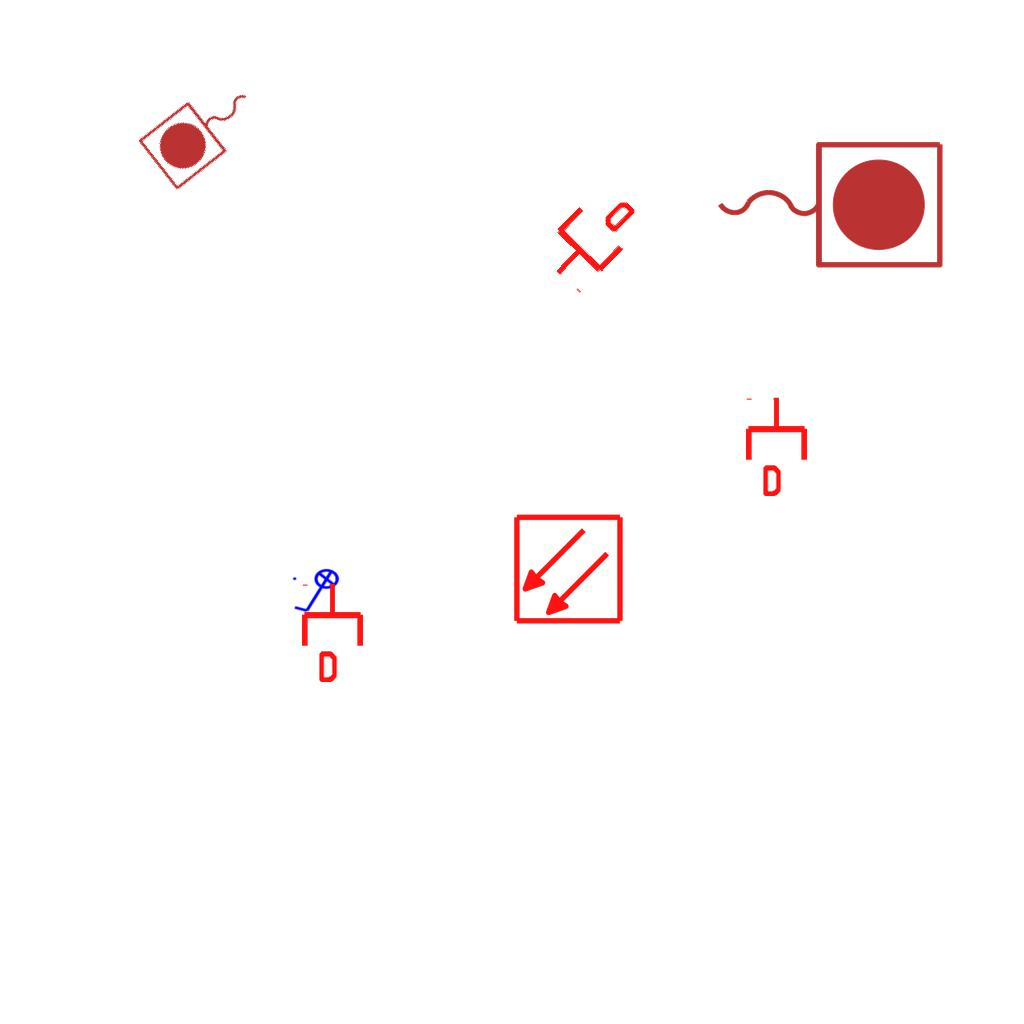Ausschalter_beleuchtet: (290, 568, 346, 616)
Datenanschluss_einfach: (531, 178, 652, 298), (742, 396, 811, 496), (298, 582, 367, 682)
RMO_Rauchmelder_optischer: (512, 513, 625, 626)
Zugtaster: (707, 131, 951, 275), (132, 65, 274, 197)
